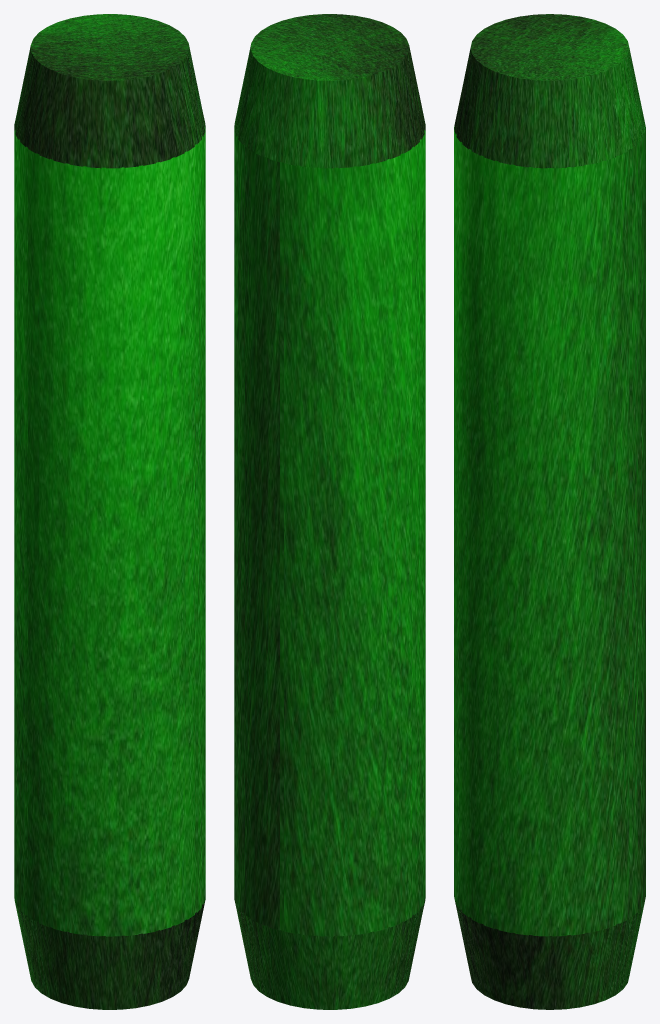
File: bullet_zylinder.obj
3 renders of one model, left to right at view 1: azimuth 30°, elevation 25°; view 2: azimuth 150°, elevation 25°; view 3: azimuth 270°, elevation 25°, orthographic.
Parts seen in each view (by area): view 1: Zylinder; view 2: Zylinder; view 3: Zylinder.
Part boxes in pixels (left/top/right/bottom): Zylinder: left=14, top=14, right=205, bottom=1009; Zylinder: left=234, top=14, right=425, bottom=1009; Zylinder: left=454, top=14, right=645, bottom=1009.
Bounding box in the file's own units: 0.2993 × 1.6 × 0.2993.
1 material, 1 textured.
